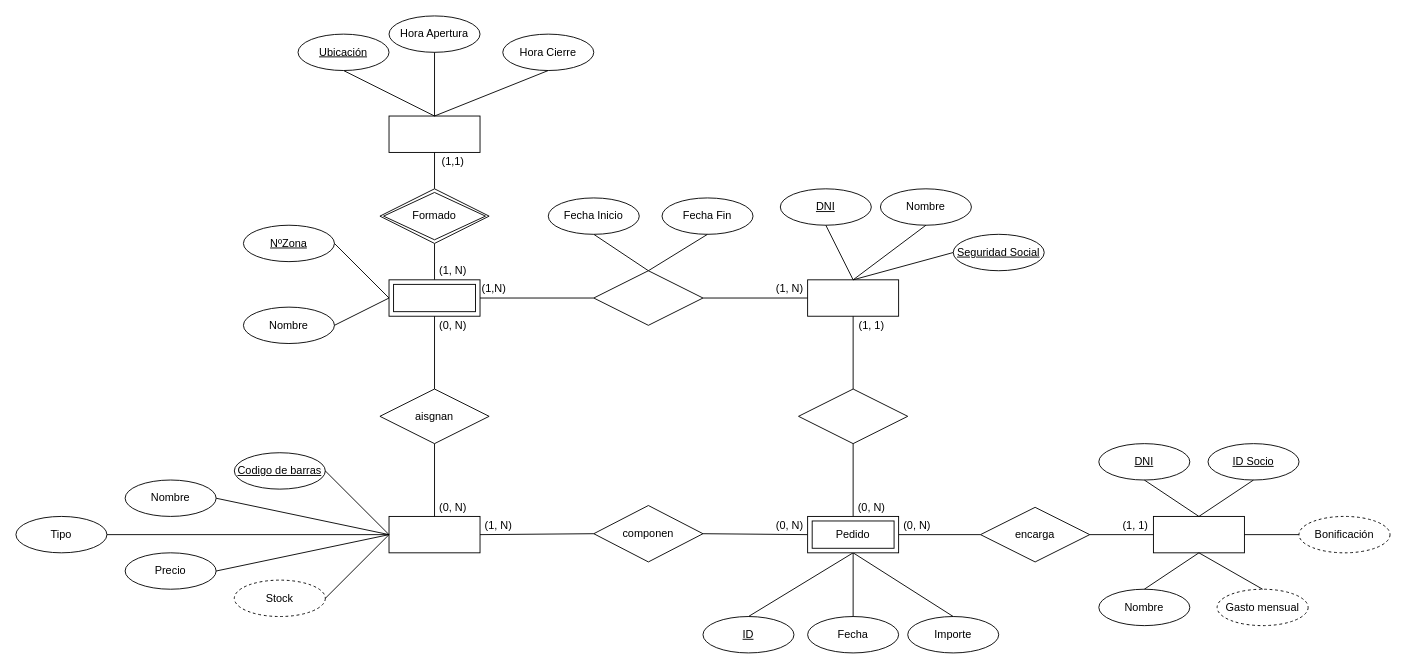
Some shapes in this 1406 by 669 pixel diagram are drawn without their labels. The centre of each missing label's shape, as x and y in pixels:
"Cliente" belongs at (x=1198, y=534).
"Empleado" belongs at (x=853, y=297).
"gestionan" belongs at (x=853, y=416).
"Productos" belongs at (x=434, y=534).
"trabajan" belongs at (x=648, y=297).
"Viveros" belongs at (x=434, y=133).
"Zonas" belongs at (x=434, y=297).
